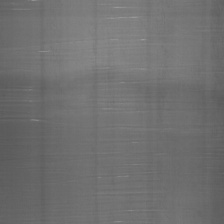waist_folding: (27, 22, 179, 193)
